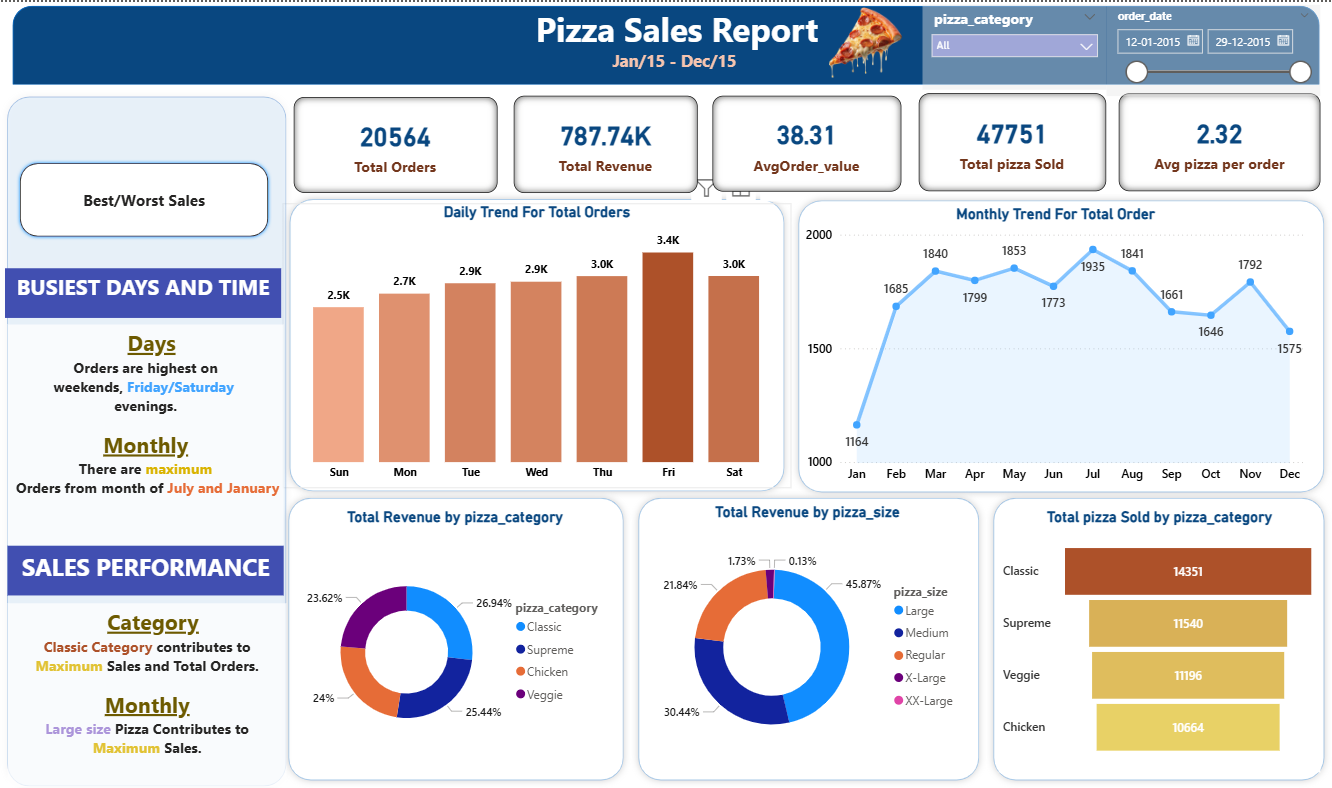

The page's visual inventory and layout, read from the dashboard file:
{"tool":"powerbi","page":{"name":"Home","canvas":[1500,892],"ordinal":0},"visuals":[{"type":"shape","box":[14.5,3.6,1472.7,89.1],"z":0},{"type":"card","fields":{"Values":["pizza_sales.Total Orders"]},"box":[331,106.7,229.3,107.9],"z":0,"group":"g1"},{"type":"textbox","box":[490.1,0,545.1,60.6],"z":1000},{"type":"card","fields":{"Values":["pizza_sales.Total Revenue"]},"box":[578.3,106,207.4,109.4],"z":1000,"group":"g1"},{"type":"textbox","box":[539.4,47.9,440.8,40.8],"z":2000},{"type":"card","fields":{"Values":["pizza_sales.AvgOrder_value"]},"box":[803.3,106,212.7,108],"z":2000,"group":"g1"},{"type":"image","box":[859.2,2.8,232.4,88.7],"z":3000},{"type":"card","fields":{"Values":["pizza_sales.Total pizza Sold"]},"box":[1034.9,103.3,210.9,110.7],"z":3000,"group":"g1"},{"type":"card","fields":{"Values":["pizza_sales.Avg pizza per order"]},"box":[1261.1,102.8,227.5,110.6],"z":4000,"group":"g1"},{"type":"shape","box":[318.8,214.1,573.4,345.3],"z":4000},{"type":"columnChart","title":"Daily Trend For Total Orders","fields":{"Category":["pizza_sales.Order Day"],"Y":["pizza_sales.Total Orders"]},"box":[318.8,226.6,573.4,321.9],"z":5000},{"type":"group","id":"g1","title":"Group 1","box":[331,102.8,1156.3,112.7],"z":6000},{"type":"shape","box":[891.5,215.5,608.5,345.1],"z":7000},{"type":"areaChart","title":"Monthly Trend For Total Order","fields":{"Category":["pizza_sales.Order Month"],"Y":["pizza_sales.Total Orders"]},"box":[902.8,228.2,573.2,322.5],"z":8000},{"type":"shape","box":[317.2,550,393.8,334.4],"z":9000},{"type":"shape","box":[710.9,550,400,334.4],"z":10000},{"type":"shape","box":[1110.9,550,389.1,334.4],"z":11000},{"type":"donutChart","fields":{"Category":["pizza_sales.pizza_category"],"Y":["pizza_sales.Total Revenue"]},"box":[331.2,570.1,363.6,302.6],"z":12000},{"type":"donutChart","fields":{"Category":["pizza_sales.pizza_size"],"Y":["pizza_sales.Total Revenue"]},"box":[728.6,564.9,363.6,302.6],"z":13000},{"type":"funnel","fields":{"Category":["pizza_sales.pizza_category"],"Y":["pizza_sales.Total pizza Sold"]},"box":[1124.7,570.1,362.3,297.4],"z":14000},{"type":"shape","box":[0,98.9,330.7,793.2],"z":15000},{"type":"textbox","box":[5.7,300,311.4,55.7],"z":16000},{"type":"textbox","box":[8,363.6,311.4,248.9],"z":17000},{"type":"textbox","box":[9.1,677.3,314.8,206.8],"z":18000},{"type":"textbox","box":[8,612.5,311.4,55.7],"z":19000},{"type":"slicer","fields":{"Values":["pizza_sales.pizza_category"]},"box":[1039.1,2.9,207.2,95.7],"z":20000},{"type":"slicer","fields":{"Values":["pizza_sales.order_date"]},"box":[1245.9,3.3,241,103.3],"z":21000},{"type":"pageNavigator","box":[18.8,176.8,288.4,91.3],"z":22000}]}

Visuals, with their boxes in screenshot pixels (x1, y1, x2, y2), scaled from the page's 1500x892 canvas onto the 1332x788 screenshot:
shape: 13,3,1321,82
card - pizza_sales.Total Orders: 294,94,498,190
textbox: 435,0,919,54
card - pizza_sales.Total Revenue: 514,94,698,190
textbox: 479,42,870,78
card - pizza_sales.AvgOrder_value: 713,94,902,189
image: 763,2,969,81
card - pizza_sales.Total pizza Sold: 919,91,1106,189
card - pizza_sales.Avg pizza per order: 1120,91,1322,189
shape: 283,189,792,494
"Daily Trend For Total Orders" columnChart: 283,200,792,485
"Group 1" group: 294,91,1321,190
shape: 792,190,1331,495
"Monthly Trend For Total Order" areaChart: 802,202,1311,486
shape: 282,486,631,781
shape: 631,486,986,781
shape: 986,486,1331,781
donutChart - pizza_sales.pizza_category x pizza_sales.Total Revenue: 294,504,617,771
donutChart - pizza_sales.pizza_size x pizza_sales.Total Revenue: 647,499,970,766
funnel - pizza_sales.pizza_category x pizza_sales.Total pizza Sold: 999,504,1320,766
shape: 0,87,294,787
textbox: 5,265,282,314
textbox: 7,321,284,541
textbox: 8,598,288,781
textbox: 7,541,284,590
slicer - pizza_sales.pizza_category: 923,3,1107,87
slicer - pizza_sales.order_date: 1106,3,1320,94
pageNavigator: 17,156,273,237
